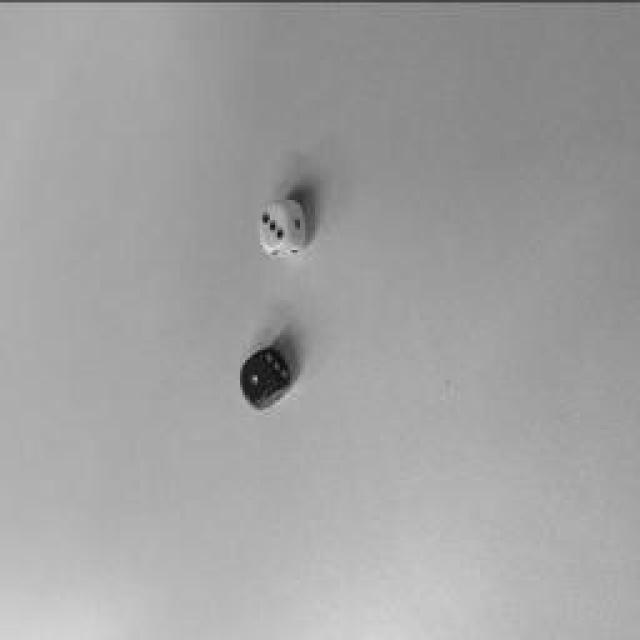dice_1: (240, 351, 272, 404)
dice_3: (259, 201, 289, 249)
